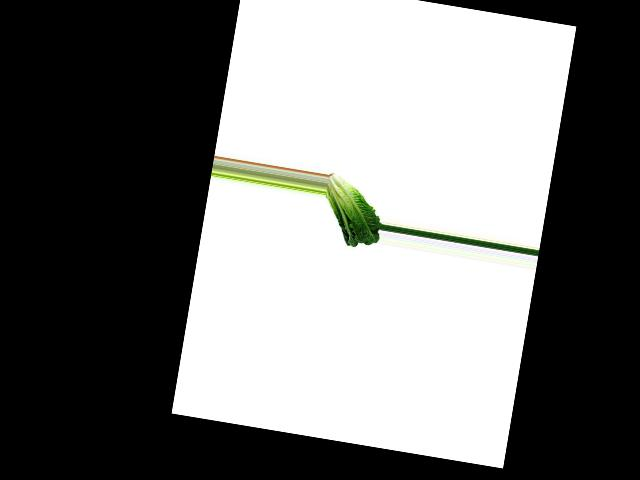lettuce: (317, 171, 388, 251)
